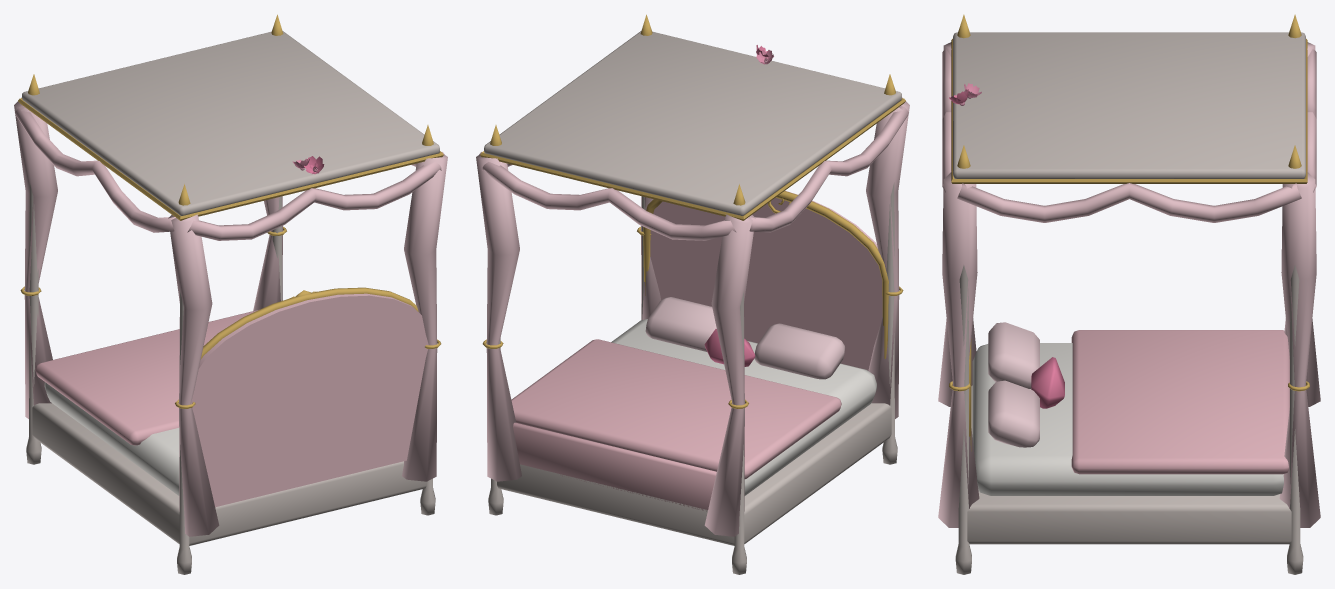
File: bed_canopy.glb
3 views of the same model, side by side, from view 1: azimuth 30°, elevation 25°; view 2: azimuth 150°, elevation 25°; view 3: azimuth 270°, elevation 25° (orthographic). The views are drawn at different scales.
Visible parts, largest first — view 1: bed_canopy; view 2: bed_canopy; view 3: bed_canopy.
Boxes of the visible parts, x1,y1,x2,y2 form: bed_canopy: (14,14,447,574); bed_canopy: (476,14,909,574); bed_canopy: (938,14,1320,574).
Size of what is drawn, in the model's own units: 2.4 by 3.2 by 2.6.
